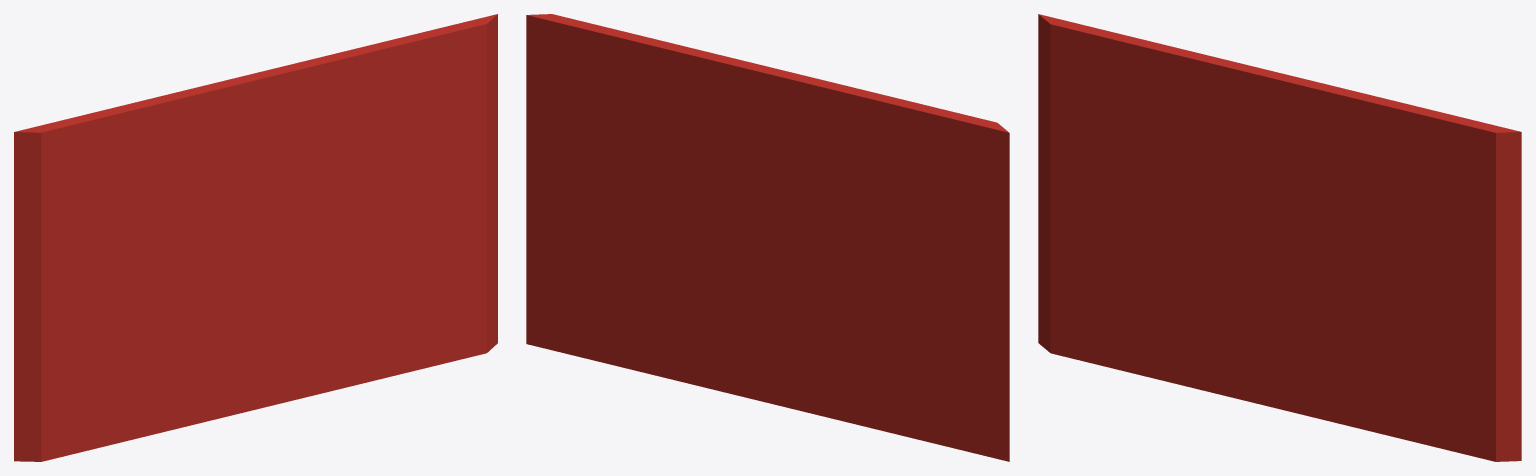
The model's file is Corridor 3 Walls.gltf.
3 views of the same model, side by side, from view 1: azimuth 30°, elevation 25°; view 2: azimuth 150°, elevation 25°; view 3: azimuth 330°, elevation 25° (orthographic).
Parts seen in each view (by area): view 1: Corridor 3 Walls; view 2: Corridor 3 Walls; view 3: Corridor 3 Walls.
Boxes of the visible parts, <box> form: Corridor 3 Walls: <box>14,14,497,461</box>; Corridor 3 Walls: <box>526,14,1009,461</box>; Corridor 3 Walls: <box>1038,14,1521,461</box>.
Bounding box in the file's own units: 0.4748 × 0.3089 × 0.0127.
1 material, 1 textured.
